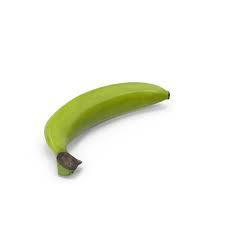Banana Unripe: (25, 51, 189, 192)
